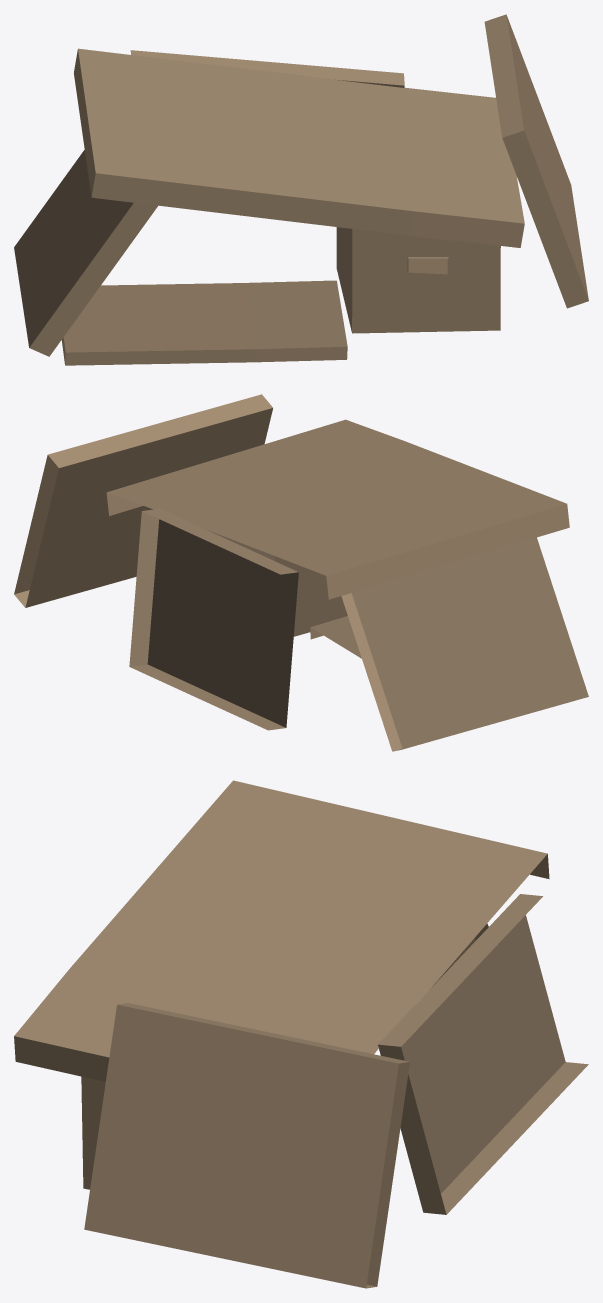
File: MSH_QuestObject_container_01.fbx
3 views of the same model, one above another, from view 1: azimuth 30°, elevation 25°; view 2: azimuth 150°, elevation 25°; view 3: azimuth 270°, elevation 25° (orthographic). The views are drawn at different scales.
Parts seen in each view (by area): view 1: MSH_QuestObject_container_01; view 2: MSH_QuestObject_container_01; view 3: MSH_QuestObject_container_01.
Boxes of the visible parts, x1,y1,x2,y2 form: MSH_QuestObject_container_01: (14,14,588,365); MSH_QuestObject_container_01: (14,394,588,751); MSH_QuestObject_container_01: (14,780,588,1288).
Bounding box in the file's own units: 4.45 × 1.47 × 3.36.
